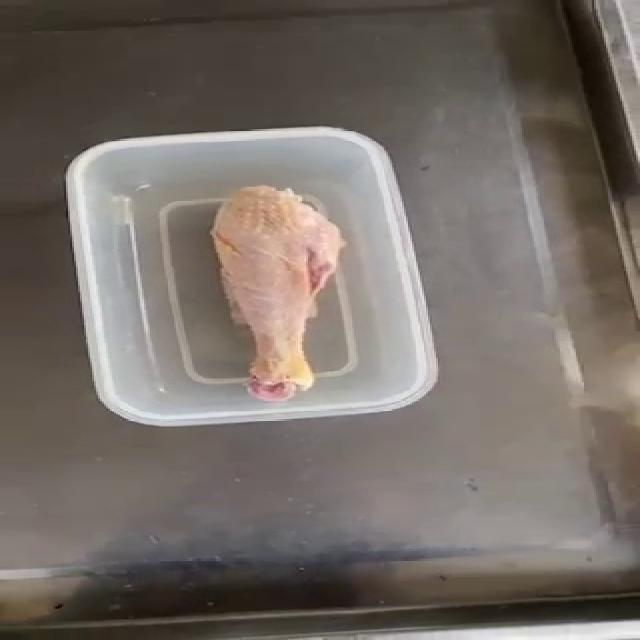chicken: (208, 183, 346, 401)
